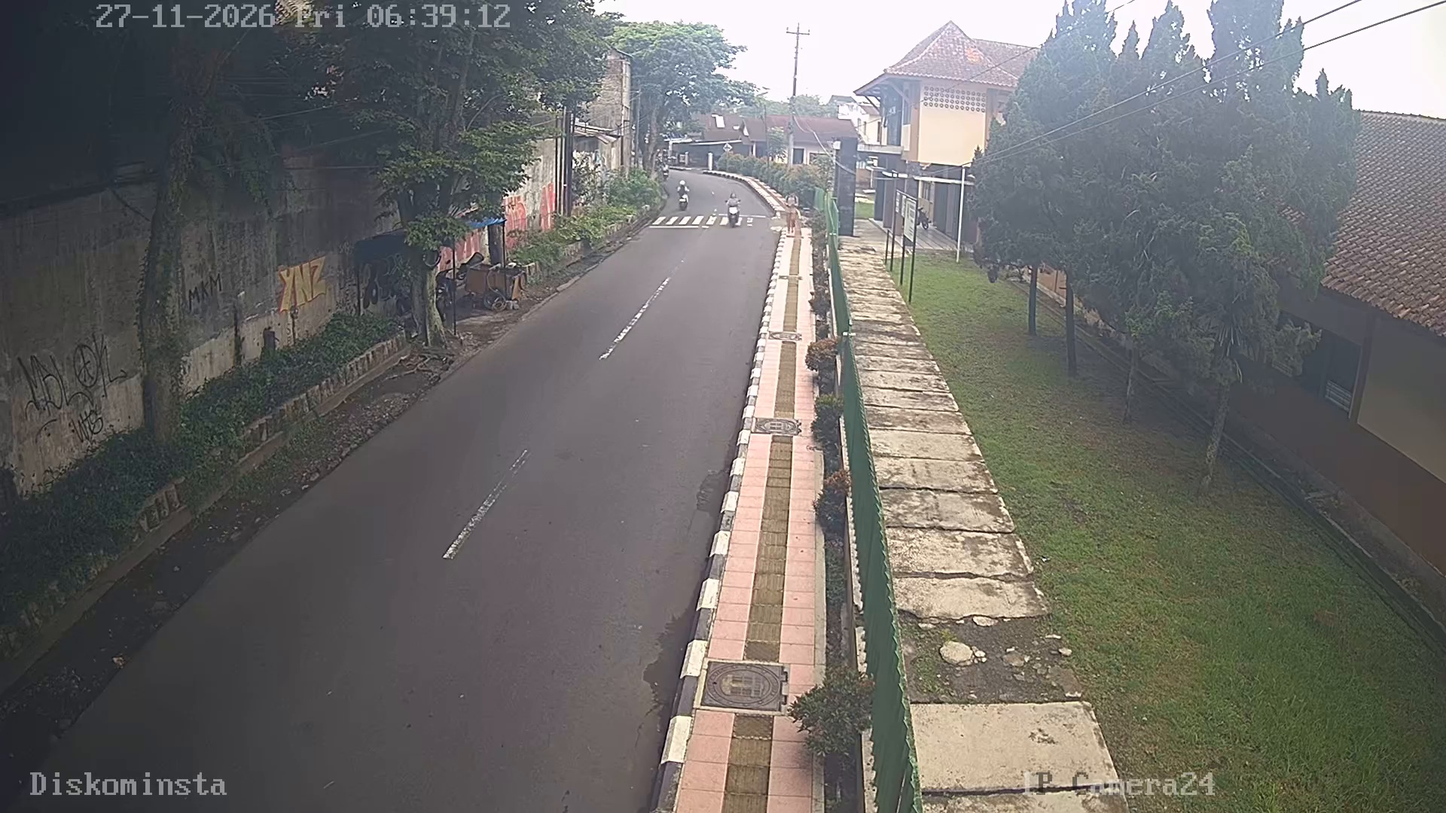Gerobak: (438, 215, 529, 310)
